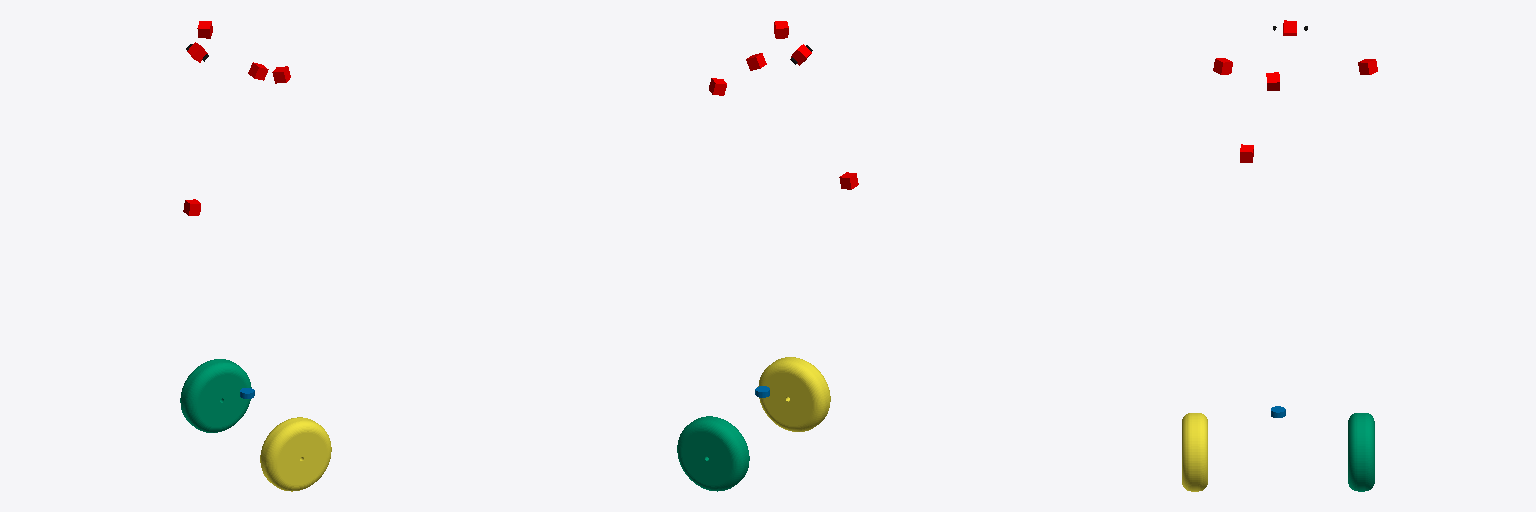
URDF robot description (primo):
<?xml version="1.0" ?>
<!-- =================================================================================== -->
<!-- |    This document was autogenerated by xacro from primo_real.xacro               | -->
<!-- |    EDITING THIS FILE BY HAND IS NOT RECOMMENDED                                 | -->
<!-- =================================================================================== -->
<robot name="primo" xmlns:xacro="http://www.ros.org/wiki/xacro">
  <!-- This script requires the alignment arguments to be sent in. They are
         used by the cameras xacro file -->
  <link name="base_link">
    <inertial>
      <mass value=".001"/>
      <origin rpy=" 0 0 0" xyz="0 0 0"/>
      <inertia ixx="1" ixy="0" ixz="1" iyy="1" iyz="0" izz="1"/>
    </inertial>
  </link>
  <joint name="base_joint" type="fixed">
    <axis xyz="0 0 0"/>
    <origin rpy="0 0 0" xyz="0.280 0 0"/>
    <parent link="base_link"/>
    <child link="chassis_link"/>
  </joint>
  <link name="chassis_link">
    <visual>
      <geometry>
        <!-- <mesh filename="package://primo_description/meshes/r1_primo_${type}.stl"/> -->
        <mesh filename="package://primo_description/meshes/primo.dae"/>
      </geometry>
    </visual>
    <collision name="collision">
      <origin xyz="-.274 0 .4"/>
      <geometry>
        <box size=".8 .66 .5"/>
      </geometry>
    </collision>
    <inertial>
      <mass value="31.0"/>
      <origin rpy=" 0 0 0" xyz="-.274 0 .4"/>
      <inertia ixx="11.519" ixy="0" ixz="-3" iyy="14.163" iyz="0" izz="5"/>
    </inertial>
  </link>
  <link name="left_wheel">
    <visual>
      <geometry>
        <mesh filename="package://primo_description/meshes/r1_wheel.stl"/>
      </geometry>
    </visual>
    <origin rpy="0 0 0" xyz="0 0 0"/>
    <collision name="collision">
      <!-- <origin xyz="0 0 0" rpy="0 1.5707 1.5707"/> -->
      <origin rpy="1.5707 0 0" xyz="0 0 0"/>
      <geometry>
        <cylinder length="0.1" radius="0.151"/>
      </geometry>
    </collision>
    <inertial>
      <origin rpy="0 1.5707 1.5707" xyz="0 0 0"/>
      <mass value="2"/>
      <inertia ixx=".1" ixy="0.0" ixz="0.0" iyy=".1" iyz="0.0" izz=".1"/>
    </inertial>
  </link>
  <joint name="left_wheel_joint" type="continuous">
    <parent link="chassis_link"/>
    <child link="left_wheel"/>
    <origin rpy="0 0 0" xyz="0 0.3175 0.1510"/>
    <axis rpy="0 0 0" xyz="0 1 0"/>
  </joint>
  <!-- Gazebo wheel reference -->
  <gazebo reference="left_wheel">
    <mu1 value="200.0"/>
    <mu2 value="100.0"/>
    <kp value="10000000.0"/>
    <kd value="1.0"/>
    <material>Gazebo/Black</material>
  </gazebo>
  <link name="right_wheel">
    <visual>
      <geometry>
        <mesh filename="package://primo_description/meshes/r1_wheel.stl"/>
      </geometry>
    </visual>
    <origin rpy="0 0 0" xyz="0 0 0"/>
    <collision name="collision">
      <!-- <origin xyz="0 0 0" rpy="0 1.5707 1.5707"/> -->
      <origin rpy="1.5707 0 0" xyz="0 0 0"/>
      <geometry>
        <cylinder length="0.1" radius="0.151"/>
      </geometry>
    </collision>
    <inertial>
      <origin rpy="0 1.5707 1.5707" xyz="0 0 0"/>
      <mass value="2"/>
      <inertia ixx=".1" ixy="0.0" ixz="0.0" iyy=".1" iyz="0.0" izz=".1"/>
    </inertial>
  </link>
  <joint name="right_wheel_joint" type="continuous">
    <parent link="chassis_link"/>
    <child link="right_wheel"/>
    <origin rpy="0 0 0" xyz="0 -0.3175 0.1510"/>
    <axis rpy="0 0 0" xyz="0 1 0"/>
  </joint>
  <!-- Gazebo wheel reference -->
  <gazebo reference="right_wheel">
    <mu1 value="200.0"/>
    <mu2 value="100.0"/>
    <kp value="10000000.0"/>
    <kd value="1.0"/>
    <material>Gazebo/Black</material>
  </gazebo>
  <!-- Sensor Suite -->
  <link name="imu_link">
    <collision>
      <origin rpy="0 0 0" xyz="0 0 0"/>
      <geometry>
        <cylinder length=".024" radius=".029"/>
      </geometry>
    </collision>
    <visual>
      <origin rpy="0 0 0" xyz="0 0 0"/>
      <geometry>
        <cylinder length=".024" radius=".029"/>
      </geometry>
      <material name="orange"/>
    </visual>
    <inertial>
      <mass value="0.09"/>
      <origin rpy="0 0 0" xyz="0 0 0"/>
      <inertia ixx="1e-6" ixy="0" ixz="0" iyy="1e-6" iyz="0" izz="1e-6"/>
    </inertial>
  </link>
  <joint name="imu_joint" type="fixed">
    <origin rpy="0 0 0" xyz="-0.04 0 0.3"/>
    <parent link="chassis_link"/>
    <child link="imu_link"/>
  </joint>
  <material name="red">
    <color rgba="1 0 0 1"/>
  </material>
  <material name="green">
    <color rgba="0 1 0 1"/>
  </material>
  <material name="blue">
    <color rgba="0 0 1 1"/>
  </material>
  <material name="white">
    <color rgba="1 1 1 1"/>
  </material>
  <!-- this name is required for the point cloud -->
  <link name="stereo0_link">
    <collision>
      <origin rpy="0 0 0" xyz="0 0 0"/>
      <geometry>
        <box size="0.05 0.05 0.05"/>
      </geometry>
    </collision>
    <visual>
      <origin rpy="0 0 0" xyz="0 0 0"/>
      <geometry>
        <box size="0.05 0.05 0.05"/>
      </geometry>
      <material name="red"/>
    </visual>
    <inertial>
      <mass value="0.1"/>
      <origin rpy="0 0 0" xyz="0 0 0"/>
      <inertia ixx="1e-6" ixy="0" ixz="0" iyy="1e-6" iyz="0" izz="1e-6"/>
    </inertial>
  </link>
  <!-- The camera joint -->
  <joint name="stereo0_joint" type="fixed">
    <origin rpy="-2.913 0.025 -2.466" xyz="-0.003 -0.21 1.773"/>
    <parent link="chassis_link"/>
    <child link="stereo0_link"/>
  </joint>
  <!-- The corrected link for gazebo -->
  <link name="stereo0_corrected_link">
    <inertial>
      <mass value="0"/>
      <origin rpy="0 0 0" xyz="0 0 0"/>
      <inertia ixx="1e-6" ixy="0" ixz="0" iyy="1e-6" iyz="0" izz="1e-6"/>
    </inertial>
  </link>
  <joint name="stereo0_corrected_joint" type="fixed">
    <origin rpy="1.57079632679 -1.5707963267 0" xyz="0 0 0"/>
    <parent link="stereo0_link"/>
    <child link="stereo0_corrected_link"/>
  </joint>
  <!-- this name is required for the point cloud -->
  <link name="stereo1_link">
    <collision>
      <origin rpy="0 0 0" xyz="0 0 0"/>
      <geometry>
        <box size="0.05 0.05 0.05"/>
      </geometry>
    </collision>
    <visual>
      <origin rpy="0 0 0" xyz="0 0 0"/>
      <geometry>
        <box size="0.05 0.05 0.05"/>
      </geometry>
      <material name="red"/>
    </visual>
    <inertial>
      <mass value="0.1"/>
      <origin rpy="0 0 0" xyz="0 0 0"/>
      <inertia ixx="1e-6" ixy="0" ixz="0" iyy="1e-6" iyz="0" izz="1e-6"/>
    </inertial>
  </link>
  <!-- The camera joint -->
  <joint name="stereo1_joint" type="fixed">
    <origin rpy="-2.882 -0.038 -0.716" xyz="-0.035 0.343 1.756"/>
    <parent link="chassis_link"/>
    <child link="stereo1_link"/>
  </joint>
  <!-- The corrected link for gazebo -->
  <link name="stereo1_corrected_link">
    <inertial>
      <mass value="0"/>
      <origin rpy="0 0 0" xyz="0 0 0"/>
      <inertia ixx="1e-6" ixy="0" ixz="0" iyy="1e-6" iyz="0" izz="1e-6"/>
    </inertial>
  </link>
  <joint name="stereo1_corrected_joint" type="fixed">
    <origin rpy="1.57079632679 -1.5707963267 0" xyz="0 0 0"/>
    <parent link="stereo1_link"/>
    <child link="stereo1_corrected_link"/>
  </joint>
  <!-- this name is required for the point cloud -->
  <link name="stereo2_link">
    <collision>
      <origin rpy="0 0 0" xyz="0 0 0"/>
      <geometry>
        <box size="0.05 0.05 0.05"/>
      </geometry>
    </collision>
    <visual>
      <origin rpy="0 0 0" xyz="0 0 0"/>
      <geometry>
        <box size="0.05 0.05 0.05"/>
      </geometry>
      <material name="red"/>
    </visual>
    <inertial>
      <mass value="0.1"/>
      <origin rpy="0 0 0" xyz="0 0 0"/>
      <inertia ixx="1e-6" ixy="0" ixz="0" iyy="1e-6" iyz="0" izz="1e-6"/>
    </inertial>
  </link>
  <!-- The camera joint -->
  <joint name="stereo2_joint" type="fixed">
    <origin rpy="-1.726 -0.046 -1.642" xyz="-0.361 -0.12 1.238"/>
    <parent link="chassis_link"/>
    <child link="stereo2_link"/>
  </joint>
  <!-- The corrected link for gazebo -->
  <link name="stereo2_corrected_link">
    <inertial>
      <mass value="0"/>
      <origin rpy="0 0 0" xyz="0 0 0"/>
      <inertia ixx="1e-6" ixy="0" ixz="0" iyy="1e-6" iyz="0" izz="1e-6"/>
    </inertial>
  </link>
  <joint name="stereo2_corrected_joint" type="fixed">
    <origin rpy="1.57079632679 -1.5707963267 0" xyz="0 0 0"/>
    <parent link="stereo2_link"/>
    <child link="stereo2_corrected_link"/>
  </joint>
  <!-- this name is required for the point cloud -->
  <link name="stereo3_link">
    <collision>
      <origin rpy="0 0 0" xyz="0 0 0"/>
      <geometry>
        <box size="0.05 0.05 0.05"/>
      </geometry>
    </collision>
    <visual>
      <origin rpy="0 0 0" xyz="0 0 0"/>
      <geometry>
        <box size="0.05 0.05 0.05"/>
      </geometry>
      <material name="red"/>
    </visual>
    <inertial>
      <mass value="0.1"/>
      <origin rpy="0 0 0" xyz="0 0 0"/>
      <inertia ixx="1e-6" ixy="0" ixz="0" iyy="1e-6" iyz="0" izz="1e-6"/>
    </inertial>
  </link>
  <!-- The camera joint -->
  <joint name="stereo3_joint" type="fixed">
    <origin rpy="0.026 0.635 -3.098" xyz="-0.241 0.046 1.823"/>
    <parent link="chassis_link"/>
    <child link="stereo3_link"/>
  </joint>
  <!-- The corrected link for gazebo -->
  <link name="stereo3_corrected_link">
    <inertial>
      <mass value="0"/>
      <origin rpy="0 0 0" xyz="0 0 0"/>
      <inertia ixx="1e-6" ixy="0" ixz="0" iyy="1e-6" iyz="0" izz="1e-6"/>
    </inertial>
  </link>
  <joint name="stereo3_corrected_joint" type="fixed">
    <origin rpy="1.57079632679 -1.5707963267 0" xyz="0 0 0"/>
    <parent link="stereo3_link"/>
    <child link="stereo3_corrected_link"/>
  </joint>
  <!-- this name is required for the point cloud -->
  <link name="color0_link">
    <collision>
      <origin rpy="0 0 0" xyz="0 0 0"/>
      <geometry>
        <box size="0.05 0.05 0.05"/>
      </geometry>
    </collision>
    <visual>
      <origin rpy="0 0 0" xyz="0 0 0"/>
      <geometry>
        <box size="0.05 0.05 0.05"/>
      </geometry>
      <material name="red"/>
    </visual>
    <inertial>
      <mass value="0.1"/>
      <origin rpy="0 0 0" xyz="0 0 0"/>
      <inertia ixx="1e-6" ixy="0" ixz="0" iyy="1e-6" iyz="0" izz="1e-6"/>
    </inertial>
  </link>
  <!-- The camera joint -->
  <joint name="color0_joint" type="fixed">
    <origin rpy="-2.011 0.033 -1.557" xyz="0.0 -0.019 1.71"/>
    <parent link="chassis_link"/>
    <child link="color0_link"/>
  </joint>
  <!-- The corrected link for gazebo -->
  <link name="color0_corrected_link">
    <inertial>
      <mass value="0"/>
      <origin rpy="0 0 0" xyz="0 0 0"/>
      <inertia ixx="1e-6" ixy="0" ixz="0" iyy="1e-6" iyz="0" izz="1e-6"/>
    </inertial>
  </link>
  <joint name="color0_corrected_joint" type="fixed">
    <origin rpy="1.57079632679 -1.5707963267 0" xyz="0 0 0"/>
    <parent link="color0_link"/>
    <child link="color0_corrected_link"/>
  </joint>
  <!-- Standard ZED stuff -->
  <link name="zed_left_camera">
    <visual>
      <origin rpy="0 1.57 0" xyz="0 0 0"/>
      <geometry>
        <cylinder length=".031" radius="0.007"/>
      </geometry>
      <material name="dark_grey">
        <color rgba="0.1 0.1 0.1 1"/>
      </material>
    </visual>
  </link>
  <link name="zed_center">
    <visual>
      <origin rpy="0 0 0" xyz="0 0 0"/>
      <geometry>
        <mesh filename="package://zed_wrapper/urdf/ZED.stl"/>
      </geometry>
      <material name="light_grey">
        <color rgba="0.8 0.8 0.8 0.8"/>
      </material>
    </visual>
  </link>
  <link name="zed_right_camera">
    <visual>
      <origin rpy="0 1.57 0" xyz="0 0 0"/>
      <geometry>
        <cylinder length=".031" radius="0.007"/>
      </geometry>
      <material name="dark_grey">
        <color rgba="0.1 0.1 0.1 1"/>
      </material>
    </visual>
  </link>
  <link name="zed_depth_camera"/>
  <joint name="zed_left_camera_joint" type="fixed">
    <parent link="zed_center"/>
    <child link="zed_left_camera"/>
    <origin rpy="0 0 0" xyz="0 0.06 0"/>
  </joint>
  <joint name="zed_depth_camera_joint" type="fixed">
    <parent link="zed_left_camera"/>
    <child link="zed_depth_camera"/>
    <origin rpy="-1.5707963267948966 0 -1.5707963267948966" xyz="0 0 0"/>
  </joint>
  <joint name="zed_right_camera_joint" type="fixed">
    <parent link="zed_center"/>
    <child link="zed_right_camera"/>
    <origin rpy="0 0 0" xyz="0 -0.06 0"/>
  </joint>
  <!-- Addon joint which bolts the zed stuff to my urdf -->
  <joint name="stereo3_zed_addon_joint" type="fixed">
    <parent link="stereo3_link"/>
    <child link="zed_center"/>
    <origin rpy="0 0 0" xyz="0 0 0"/>
  </joint>
  <!-- The link for darknet renamed with the right frame id -->
  <link name="detection_image">
    <inertial>
      <mass value="0"/>
      <origin rpy="0 0 0" xyz="0 0 0"/>
      <inertia ixx="1e-6" ixy="0" ixz="0" iyy="1e-6" iyz="0" izz="1e-6"/>
    </inertial>
  </link>
  <joint name="color0_yolo" type="fixed">
    <origin rpy="0 0 0" xyz="0 0 0"/>
    <parent link="color0_link"/>
    <child link="detection_image"/>
  </joint>
</robot>

--- What the picture shows (computed from the rendered views, not written in the file) ---
3 views of the same robot in one strip: view 1: azimuth 30°, elevation 25°; view 2: azimuth 150°, elevation 25°; view 3: azimuth 270°, elevation 25° (orthographic).
Robot: primo — 20 links, 19 joints (2 continuous, 17 fixed); root link base_link; default pose: every joint at zero.
Visible links, largest first — view 1: right_wheel, left_wheel; view 2: left_wheel, right_wheel; view 3: left_wheel, right_wheel.
Link boxes in pixels (x1,y1,x2,y2): right_wheel: (260, 417, 331, 491); left_wheel: (180, 359, 251, 432); left_wheel: (677, 416, 749, 491); right_wheel: (758, 357, 830, 431); left_wheel: (1348, 413, 1374, 491); right_wheel: (1182, 413, 1207, 491).
Bounding box of the posed robot: 0.542 × 0.7503 × 1.86 m (x, y, z).
Meshes: 3 distinct files referenced, 2 mesh visuals loaded (1 binary STL); not drawn: 2 (reference not matched to a file when rendering).
